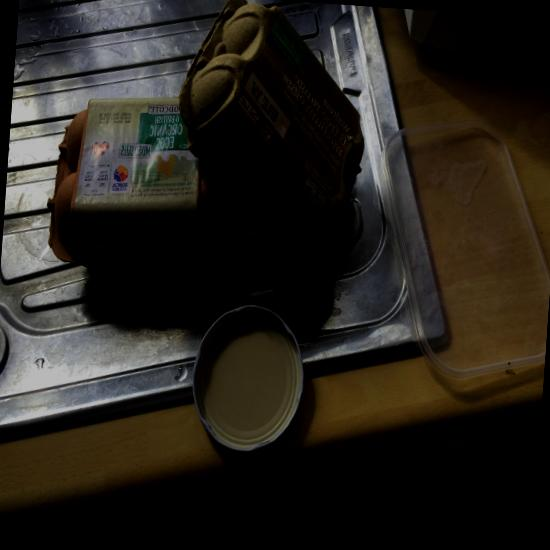Egg carton: (178, 0, 364, 265), (46, 96, 237, 277)
Metal lid: (192, 305, 304, 453)
Plastic lid: (379, 118, 550, 379)
